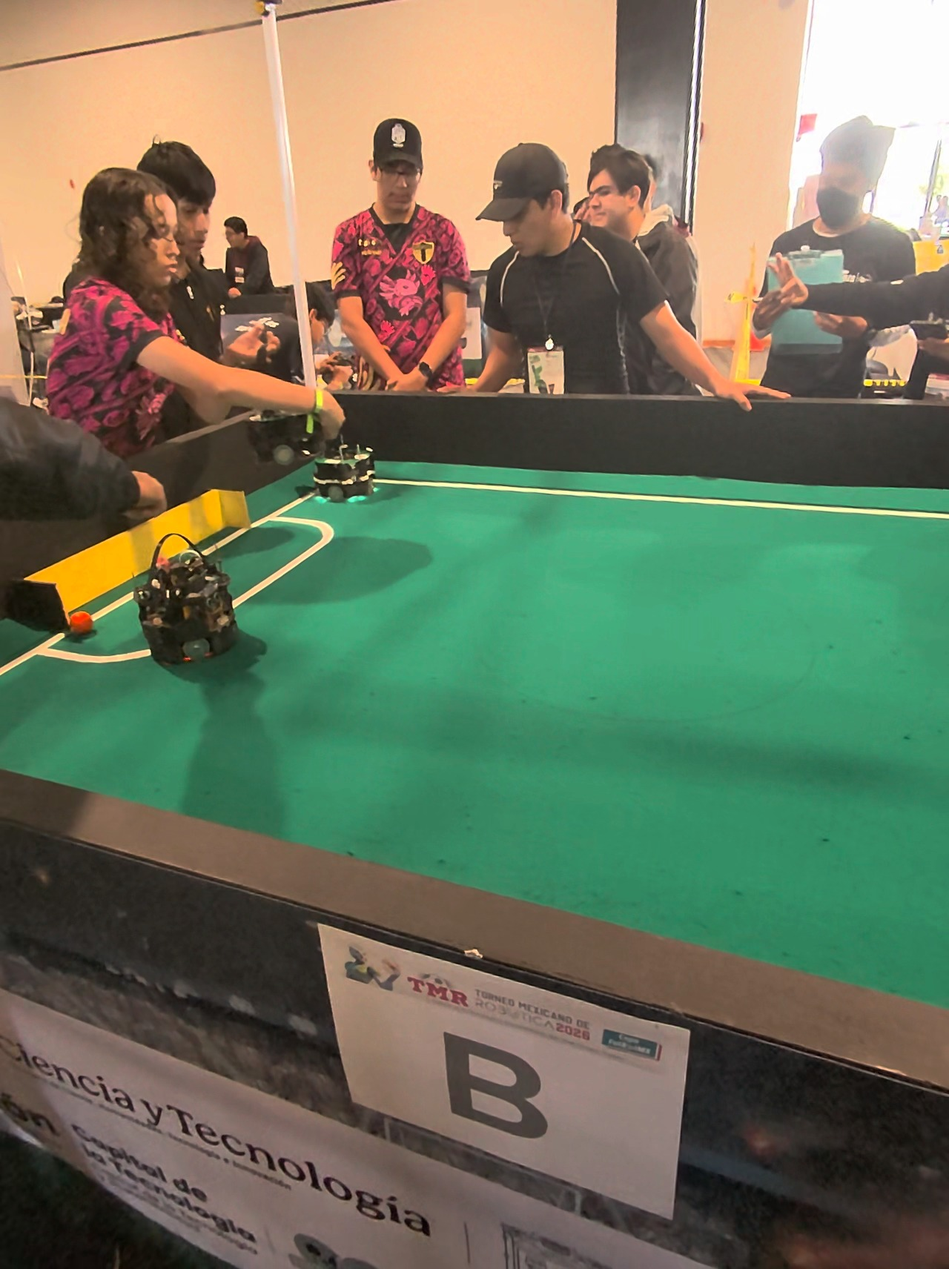Robot: (127, 527, 236, 678), (304, 393, 377, 507)
pelota: (65, 604, 90, 634)
